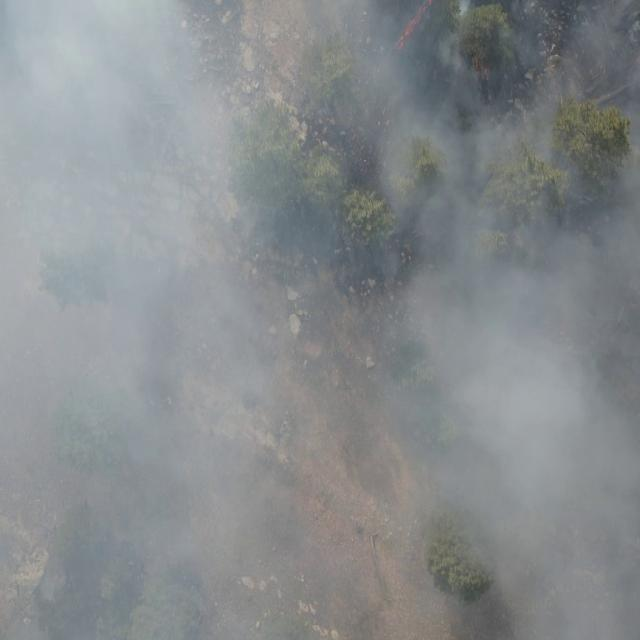fire: (392, 0, 435, 58), (472, 54, 494, 88)
smoke: (0, 0, 640, 640)
